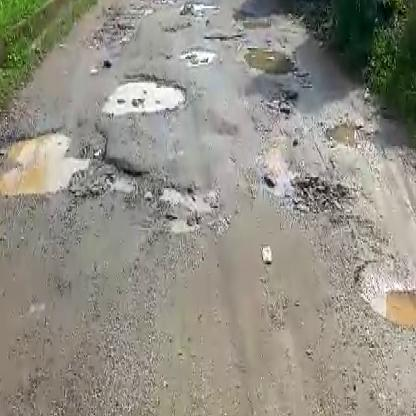pothole: (0, 124, 142, 198), (353, 256, 416, 333), (106, 73, 190, 120), (155, 180, 216, 235), (287, 171, 351, 223), (325, 116, 381, 152), (243, 44, 303, 77), (181, 46, 218, 64), (203, 28, 244, 41)
